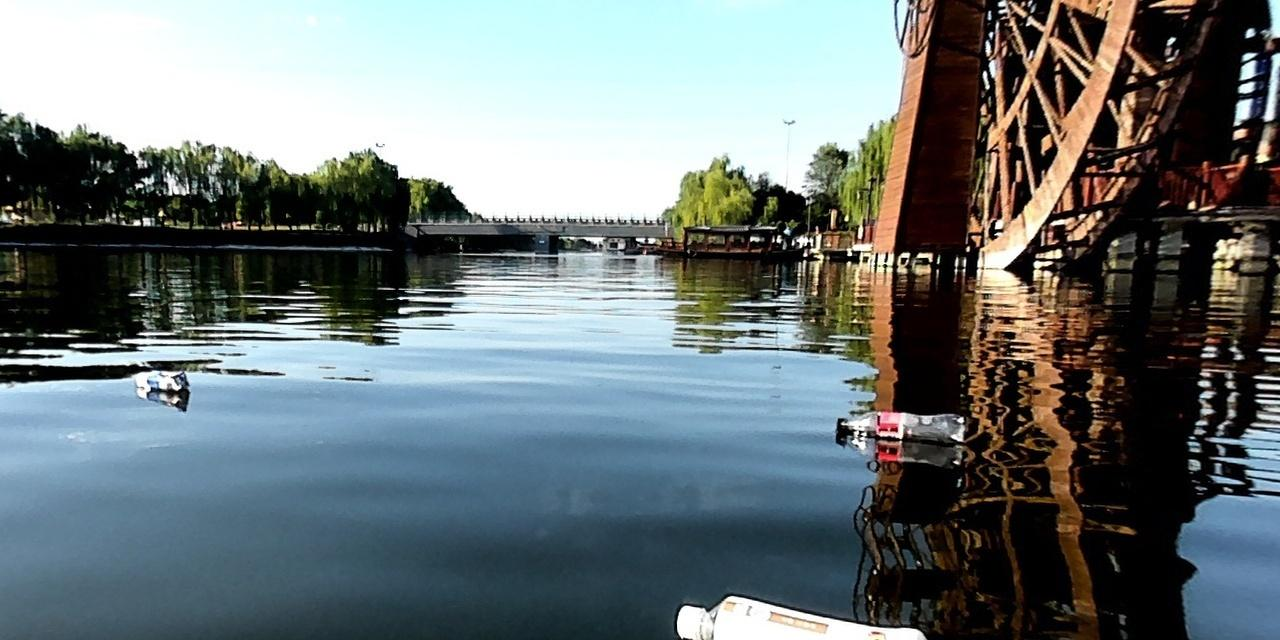bottle: (671, 583, 931, 639), (832, 403, 967, 450), (130, 366, 191, 393)
